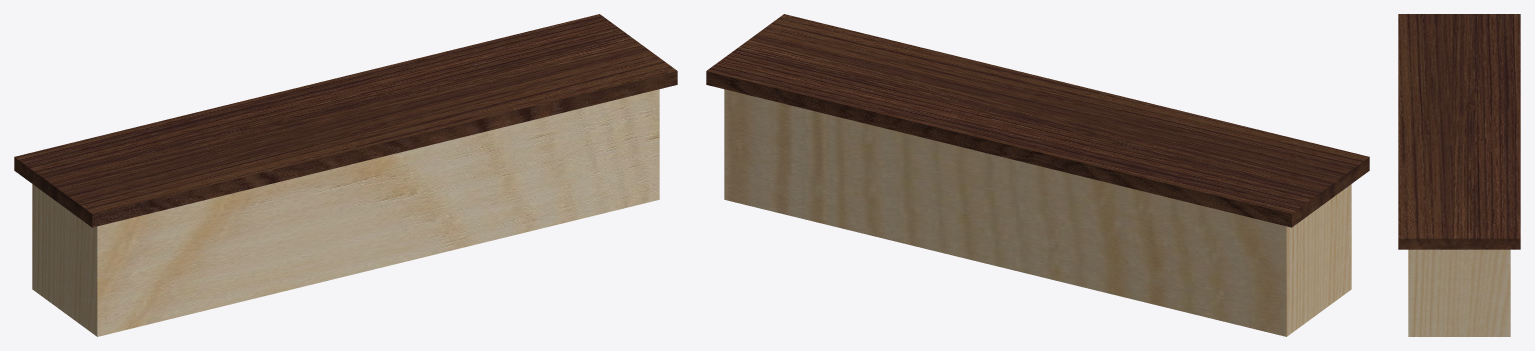
The model's file is meja pegawai.fbx.
The picture shows the model from 3 angles, left to right: view 1: azimuth 30°, elevation 25°; view 2: azimuth 150°, elevation 25°; view 3: azimuth 270°, elevation 25°; orthographic projection. The views are drawn at different scales.
Parts seen in each view (by area): view 1: Cube, Cube.001; view 2: Cube, Cube.001; view 3: Cube.001, Cube.
Boxes of the visible parts, <box> form: Cube: <box>32,89,659,336</box>; Cube.001: <box>14,14,677,227</box>; Cube: <box>724,89,1351,336</box>; Cube.001: <box>706,14,1369,227</box>; Cube.001: <box>1398,14,1520,249</box>; Cube: <box>1408,249,1510,336</box>.
Bounding box in the file's own units: 10.4 × 2.22 × 2.4.
